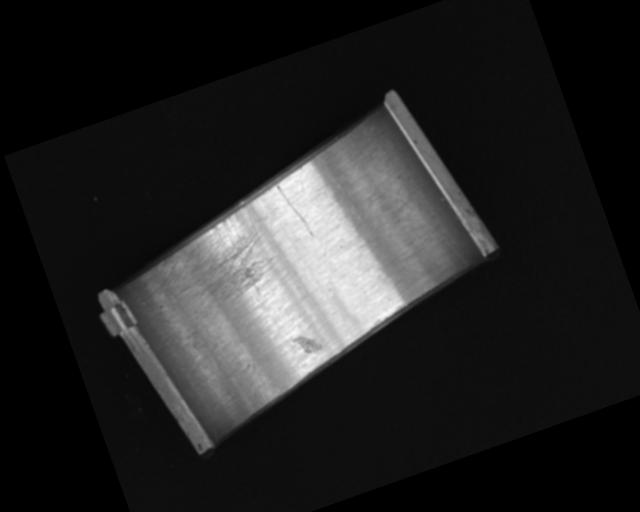bruise: (292, 330, 323, 358)
nick: (397, 183, 469, 281), (275, 177, 315, 242)
scratch: (146, 198, 284, 323)
